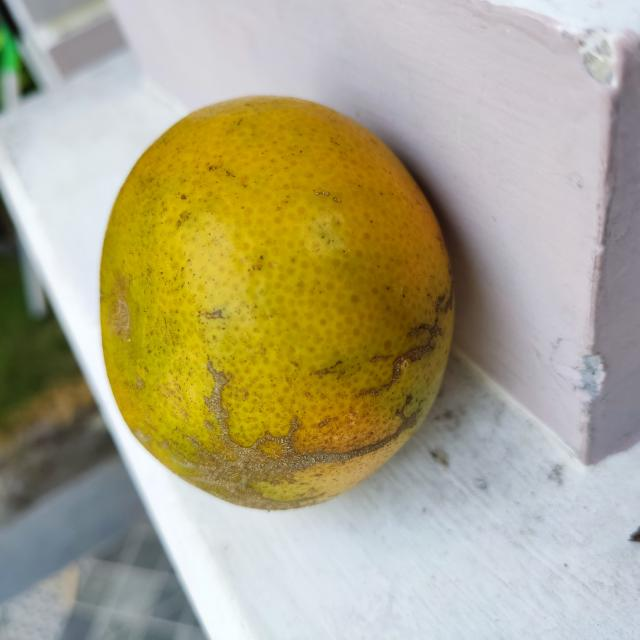orange: (93, 94, 457, 514)
